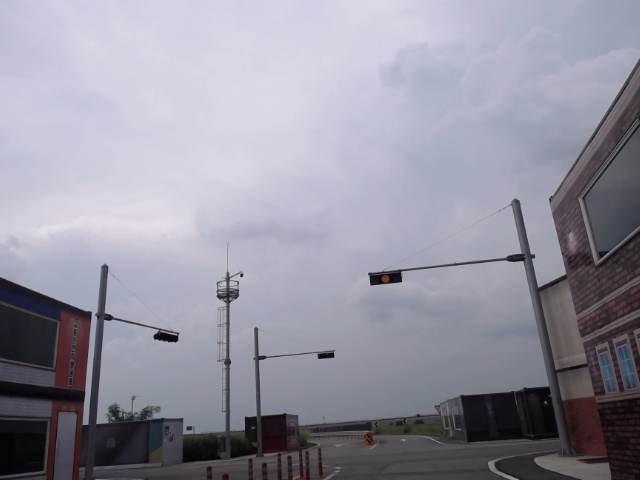orange_3: (369, 271, 402, 286)
